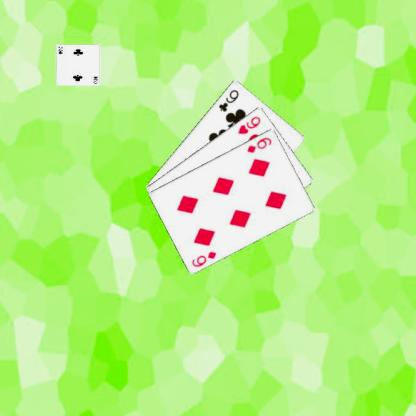6D: (244, 134, 273, 154), (189, 248, 218, 268)
9C: (216, 86, 240, 113)
9H: (236, 113, 262, 136)
